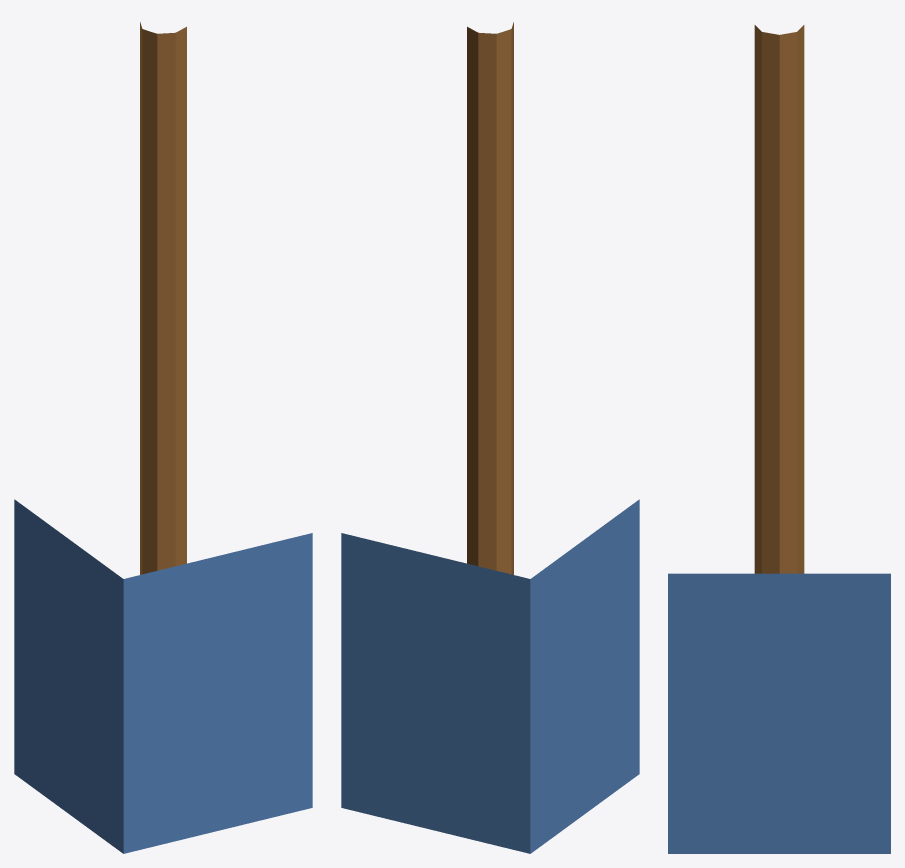
The model's file is earthshaker.glb.
3 renders of one model, left to right at view 1: azimuth 30°, elevation 25°; view 2: azimuth 150°, elevation 25°; view 3: azimuth 270°, elevation 25°, orthographic. The views are drawn at different scales.
Visible parts, largest first — view 1: earthshaker-head, earthshaker-handle; view 2: earthshaker-head, earthshaker-handle; view 3: earthshaker-head, earthshaker-handle.
Part boxes in pixels (<box>): earthshaker-head: <box>14,499,312,853</box>; earthshaker-handle: <box>140,22,186,574</box>; earthshaker-head: <box>341,499,639,853</box>; earthshaker-handle: <box>467,22,513,574</box>; earthshaker-head: <box>668,573,890,853</box>; earthshaker-handle: <box>754,25,804,573</box>.
Size of the model in its own units: 0.36 by 1.39 by 0.36.
